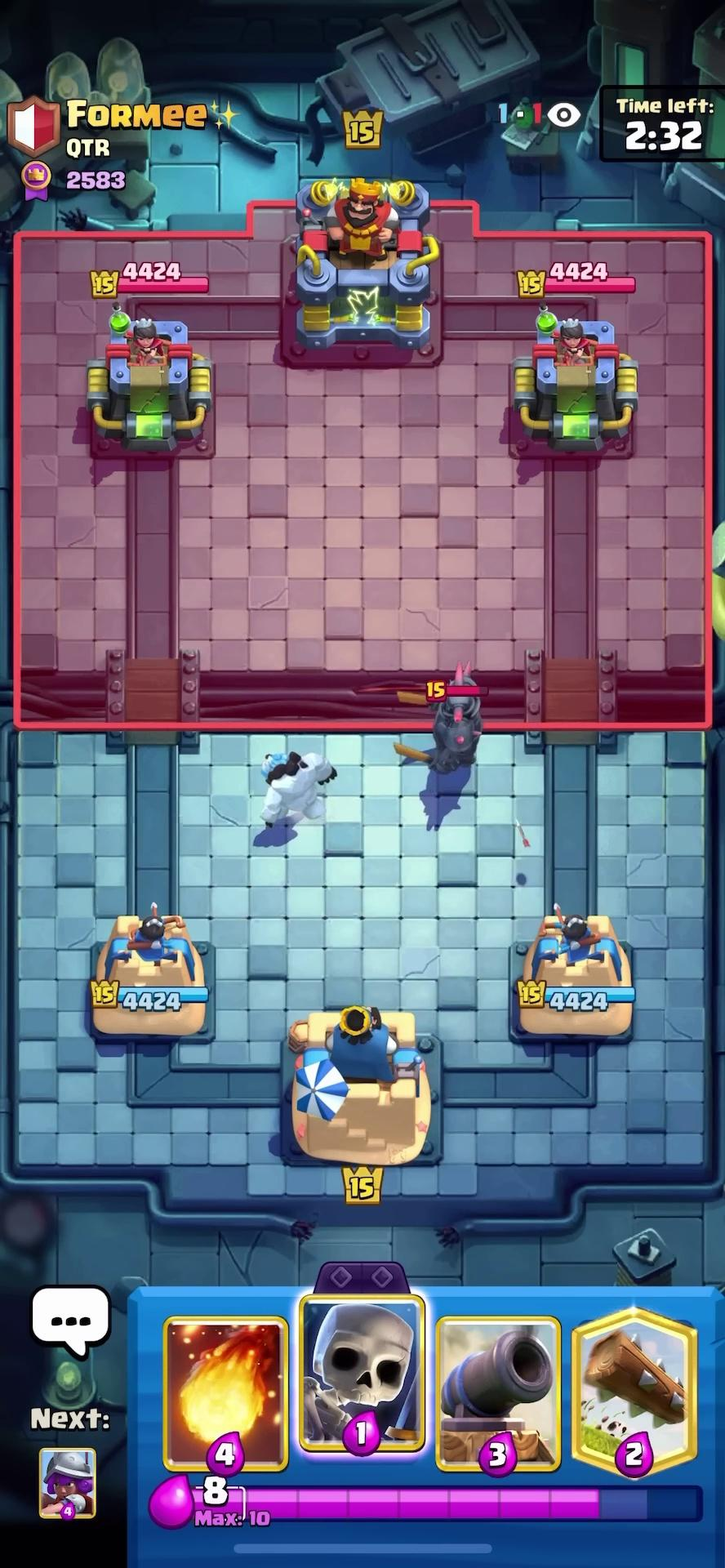ice_golem: (247, 743, 337, 839)
